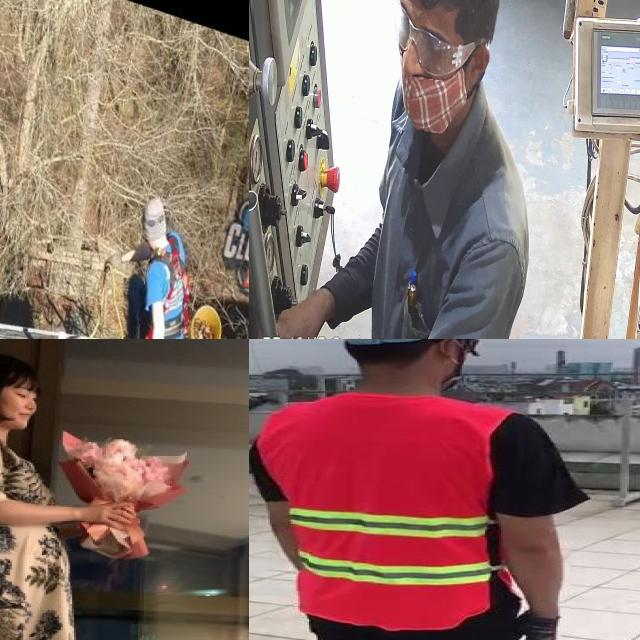Harness: (153, 232, 190, 311)
No_Ear-Protection: (464, 42, 489, 110)
face_mask: (402, 68, 467, 134)
glasses: (396, 0, 486, 77)
hand_glove: (510, 609, 558, 640)
hand_noglove: (278, 287, 337, 339)
person: (255, 339, 604, 640)
vest: (258, 393, 512, 629)
